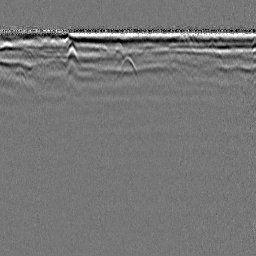cavity: (118, 54, 138, 76)
